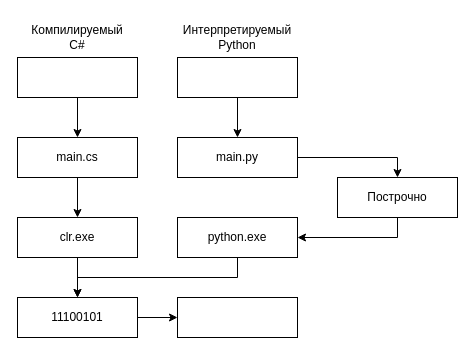
Some shapes in this 475 by 355 pixel diagram are drawn without their labels. The shapes that lost their labels are listed below. From the top down, each one's centre as x and y in pixels, then its label:
At point (77, 77): "int var = 1;".
At point (237, 77): "var = 1".
At point (237, 317): "CPU".
